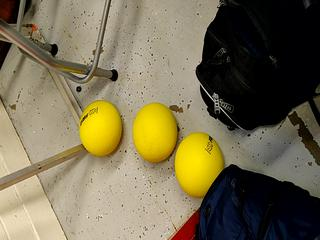power_cell: (173, 129, 229, 200), (125, 99, 181, 170), (72, 96, 128, 167)
